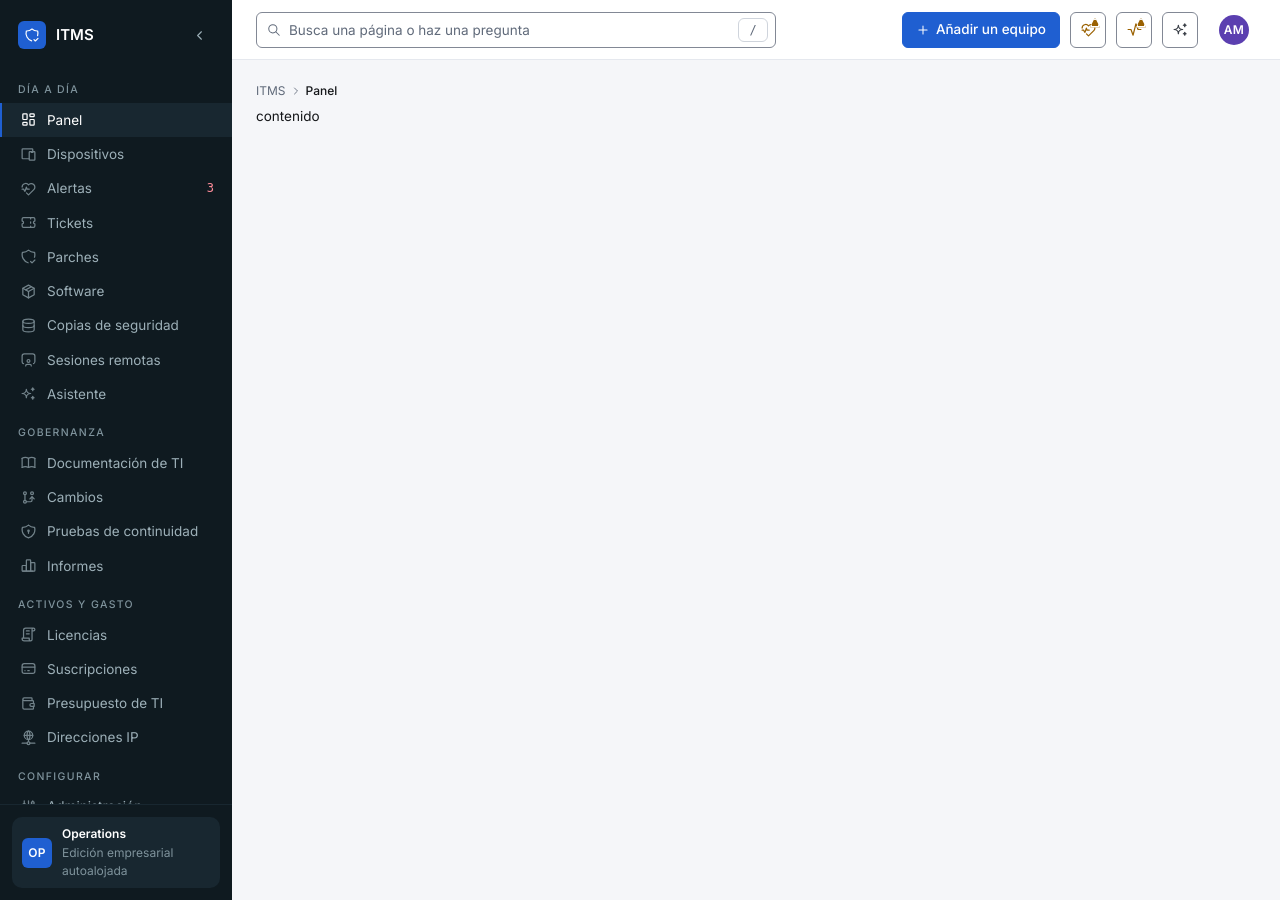
Test case: the shell in Spanish › opens the search panel in Spanish, with the page list and the ask row
Click the dropdown named "Buscar o preguntar": (516, 30) [256,12,776,48]
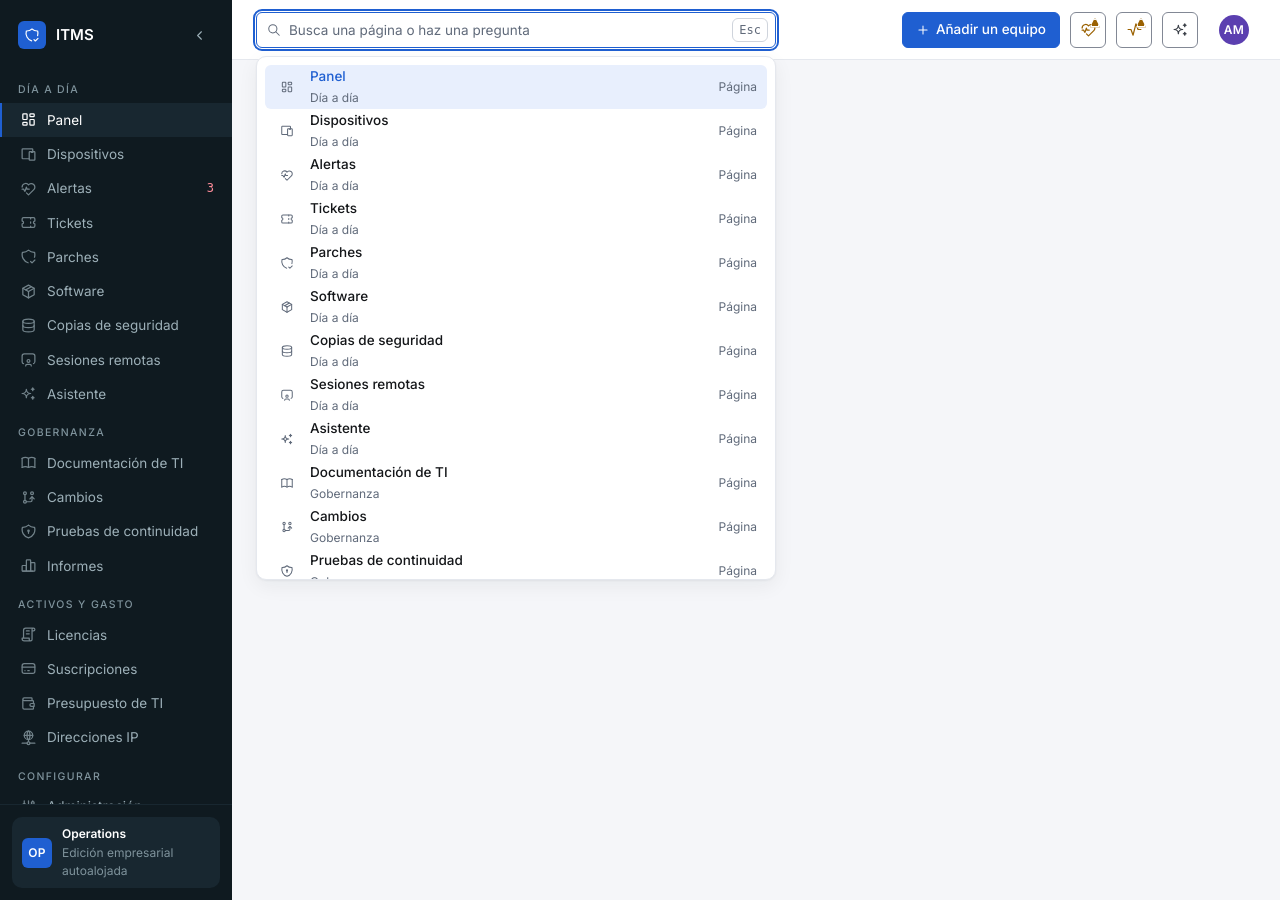
Check: the list named "Resultados de la búsqueda" is shown, box [265,64,767,578]
Check: the option "Dispositivos Día a día Página" is shown, box [265,108,767,152]
In the dropdown with placeholder "Busca una página o haz una pregunta": (516, 30) [256,12,776,48], type "zzzz"
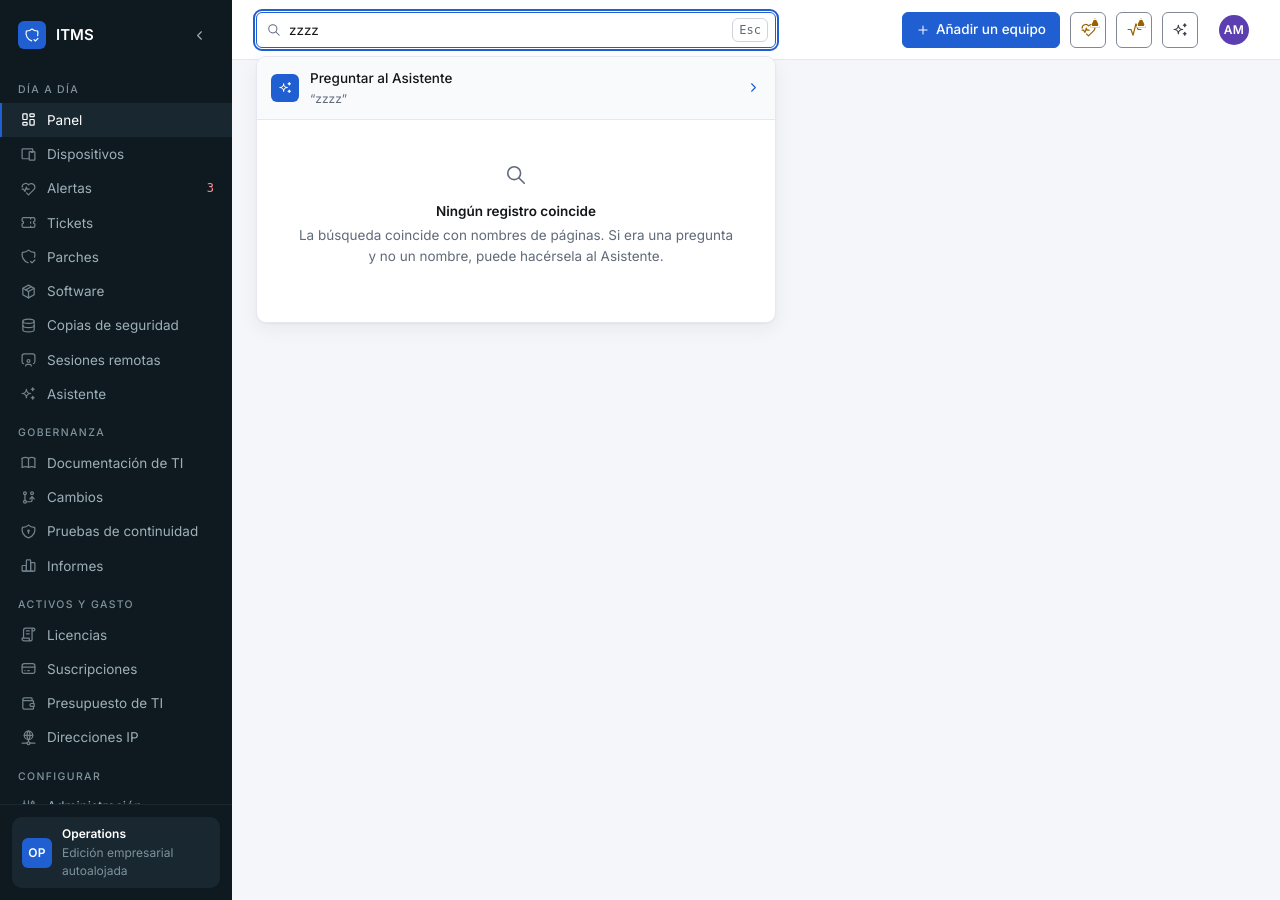
Check: the text "Preguntar al Asistente" is shown, box [310,70,452,86]
Check: the heading "Ningún registro coincide" is shown, box [436,203,596,219]
Check: the text "puede hacérsela al Asistente." is shown, box [368,227,733,264]
